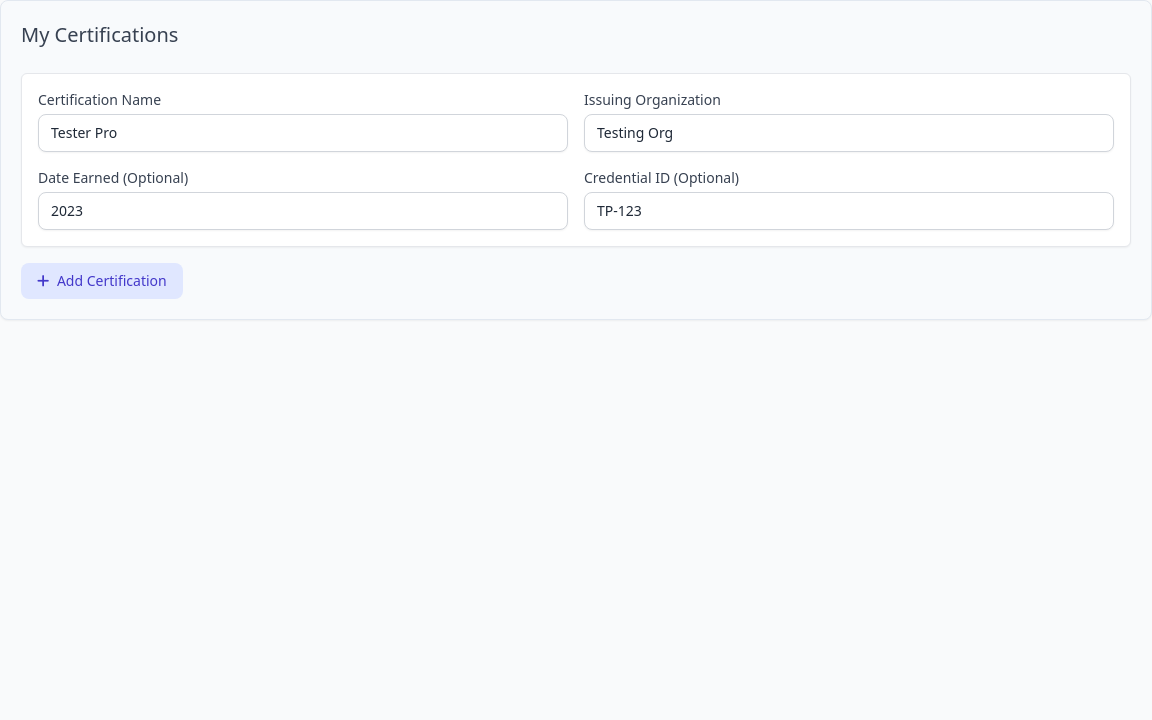
it: CertificationsEditor.vue › adds a new item when "Add Certification" is clicked
The width and height of the screenshot is (1152, 720).
Click the button "Add Certification": coordinates (102, 281) [21,263,183,299]
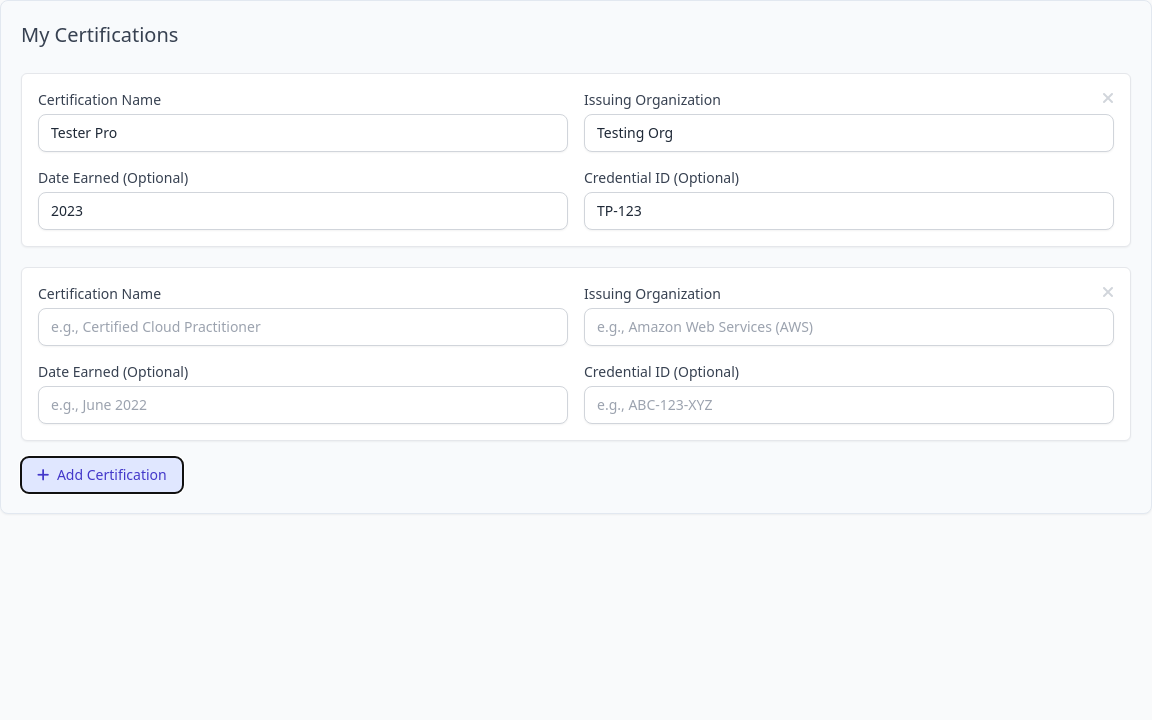
Expected: the number of fields labelled "Certification Name" is 2, [38,114,568,152]; [38,308,568,346]
